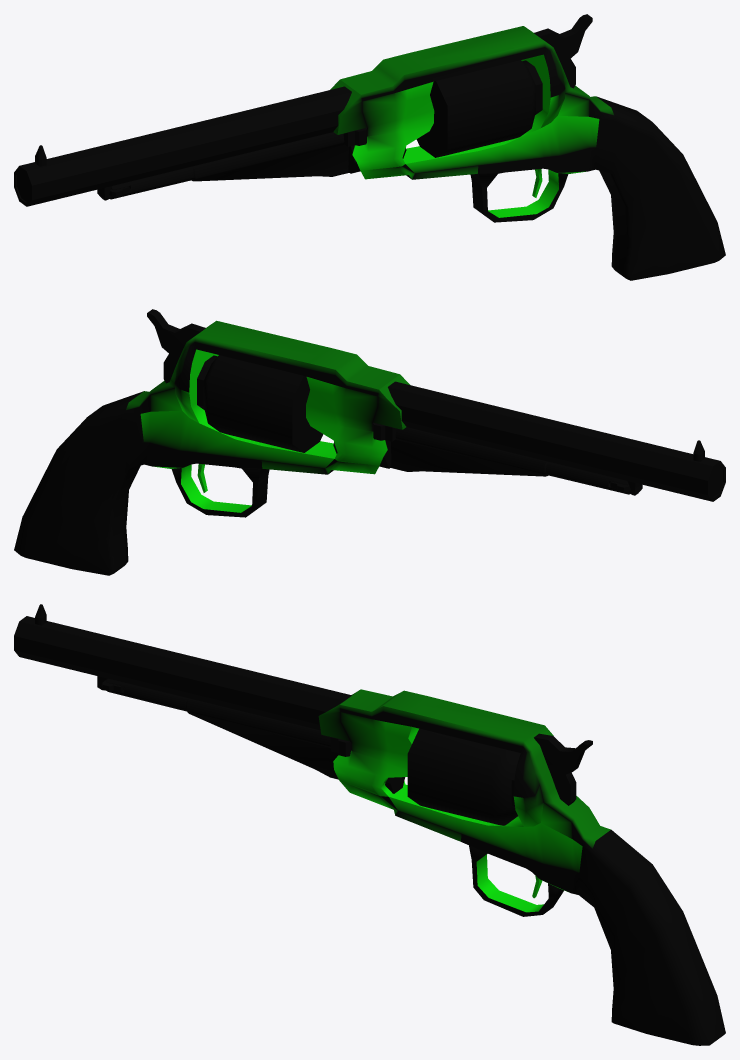
Rendered from pistol.fbx.
3 views of the same model, one above another, from view 1: azimuth 30°, elevation 25°; view 2: azimuth 150°, elevation 25°; view 3: azimuth 330°, elevation 25° (orthographic).
Parts seen in each view (by area): view 1: pistol; view 2: pistol; view 3: pistol.
Boxes of the visible parts, box(x1,y1,x2,y2) form: pistol: box(14, 14, 725, 280); pistol: box(14, 309, 725, 575); pistol: box(14, 604, 725, 1045).
Bounding box in the file's own units: 15.79 × 5.87 × 1.58.
